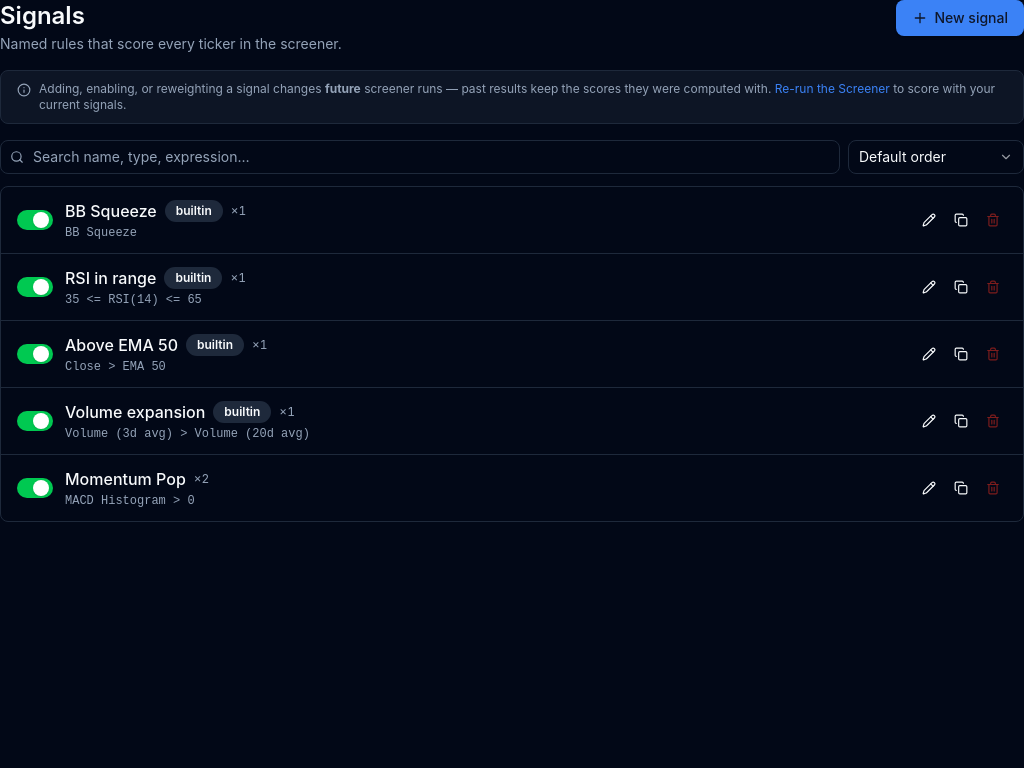
opens the builder dialog from New signal
This screenshot has width=1024, height=768.
Expected: the text "Momentum Pop" is shown, [65,467,186,491]
Click the button "New signal".
click(960, 18)  # box [896,0,1023,36]
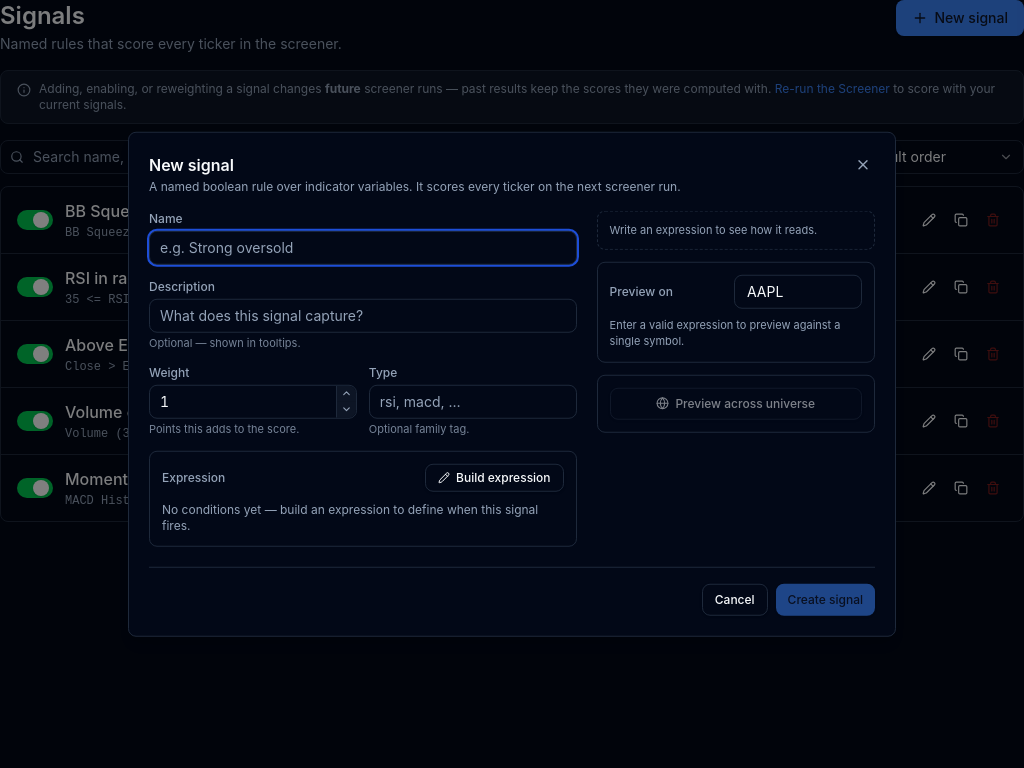
Now the field named "signal name" is shown, box [149,231,577,265]
